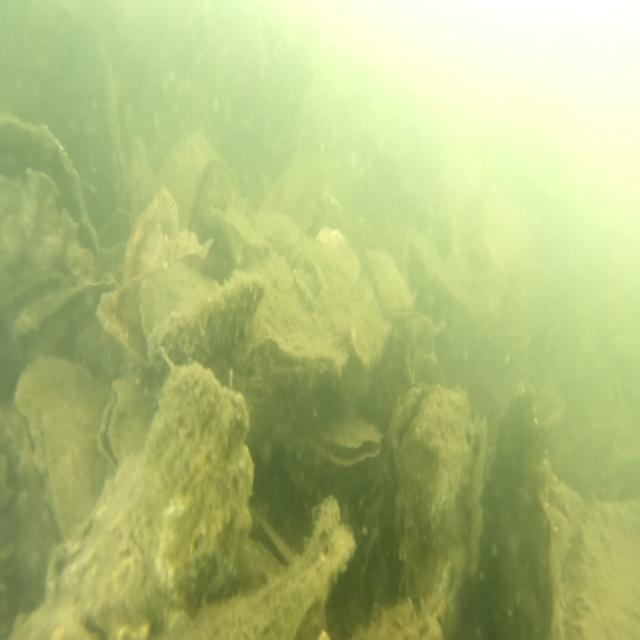Oyster-Closed: (36, 362, 255, 640), (394, 380, 481, 640), (151, 272, 267, 373), (375, 306, 441, 450), (243, 292, 344, 382), (214, 200, 268, 260)
Oyster-Indeterminate: (479, 390, 563, 640), (16, 353, 111, 541), (0, 106, 95, 284), (566, 495, 640, 640), (10, 274, 113, 339), (120, 186, 178, 274)
Oyster-Open: (94, 371, 158, 468), (187, 154, 234, 258), (304, 411, 383, 469), (242, 506, 293, 586), (97, 206, 136, 278)
